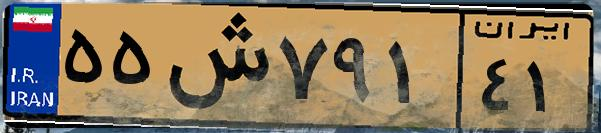1: (385, 28, 445, 110), (525, 38, 570, 115)
4: (475, 38, 525, 113)
5: (57, 26, 110, 100), (110, 28, 158, 98)
7: (270, 28, 330, 110)
9: (330, 28, 385, 110)
ش: (158, 12, 270, 120)
